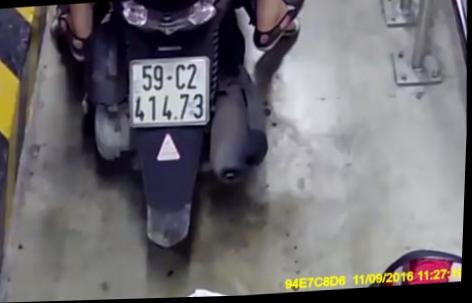LP: (126, 53, 215, 131)
